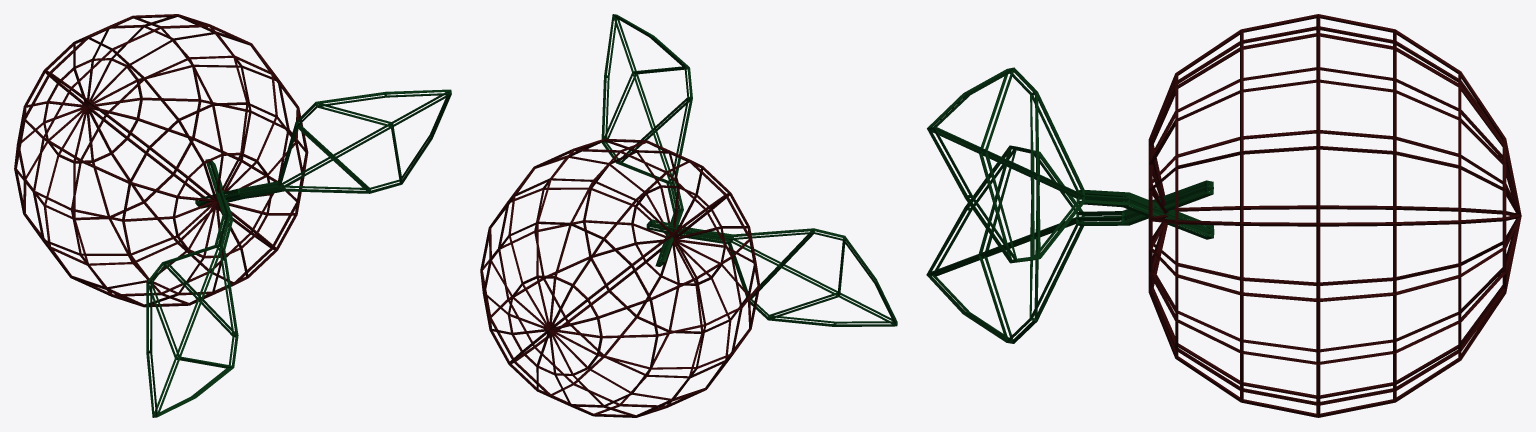
The model's file is wire_cheryl.obj.
The picture shows the model from 3 angles, left to right: view 1: azimuth 30°, elevation 25°; view 2: azimuth 150°, elevation 25°; view 3: azimuth 270°, elevation 25°; orthographic projection. The views are drawn at different scales.
Visible parts, largest first — view 1: Sphere.030, Plane.000_Plane.003, Plane.012; view 2: Sphere.030, Plane.012, Plane.000_Plane.003; view 3: Sphere.030, Plane.000_Plane.003, Plane.012.
Part boxes in pixels (bbox=[...]): Sphere.030: bbox=[14, 14, 308, 307]; Plane.000_Plane.003: bbox=[195, 89, 451, 208]; Plane.012: bbox=[146, 159, 238, 417]; Sphere.030: bbox=[480, 138, 760, 417]; Plane.012: bbox=[646, 219, 897, 326]; Plane.000_Plane.003: bbox=[601, 14, 692, 266]; Sphere.030: bbox=[1148, 14, 1521, 417]; Plane.000_Plane.003: bbox=[927, 67, 1214, 263]; Plane.012: bbox=[926, 145, 1213, 343].
Size of the model in its own units: 2.35 by 2.05 by 2.97.
